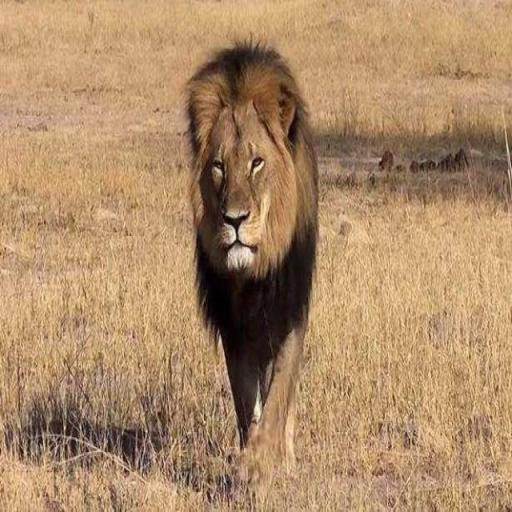Lion: (181, 31, 320, 471)
